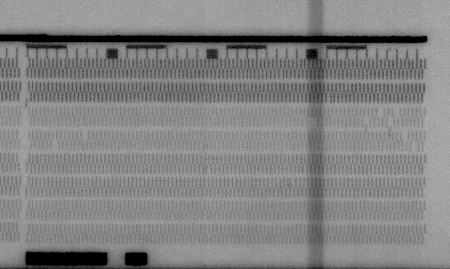Broken hole: (387, 108, 401, 127), (306, 117, 321, 130), (49, 140, 61, 153), (376, 106, 386, 119), (79, 130, 90, 141), (410, 142, 422, 152), (399, 132, 410, 142)
Oblique printing: (22, 92, 33, 106), (361, 118, 372, 131), (202, 164, 215, 175), (287, 177, 298, 189)
